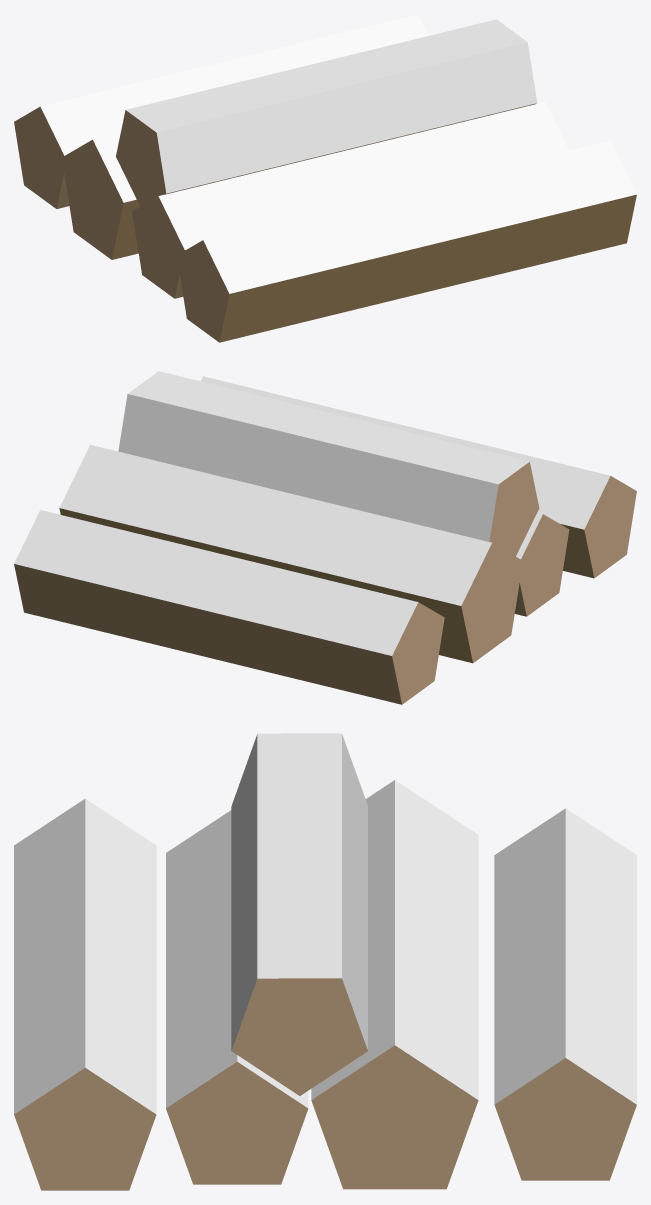
The model's file is Acacia_Firewood_Pile_Snow_01_LOD.fbx.
3 views of the same model, one above another, from view 1: azimuth 30°, elevation 25°; view 2: azimuth 150°, elevation 25°; view 3: azimuth 270°, elevation 25° (orthographic). The views are drawn at different scales.
Visible parts, largest first — view 1: Acacia_Firewood_Pile_Snow_01_LOD0; view 2: Acacia_Firewood_Pile_Snow_01_LOD0; view 3: Acacia_Firewood_Pile_Snow_01_LOD0.
Boxes of the visible parts, left/top/right/bottom form: Acacia_Firewood_Pile_Snow_01_LOD0: left=14, top=14, right=636, bottom=342; Acacia_Firewood_Pile_Snow_01_LOD0: left=14, top=371, right=636, bottom=704; Acacia_Firewood_Pile_Snow_01_LOD0: left=14, top=733, right=636, bottom=1190.
Size of what is drawn, in the model's own units: 58.97 by 20.37 by 57.7.
